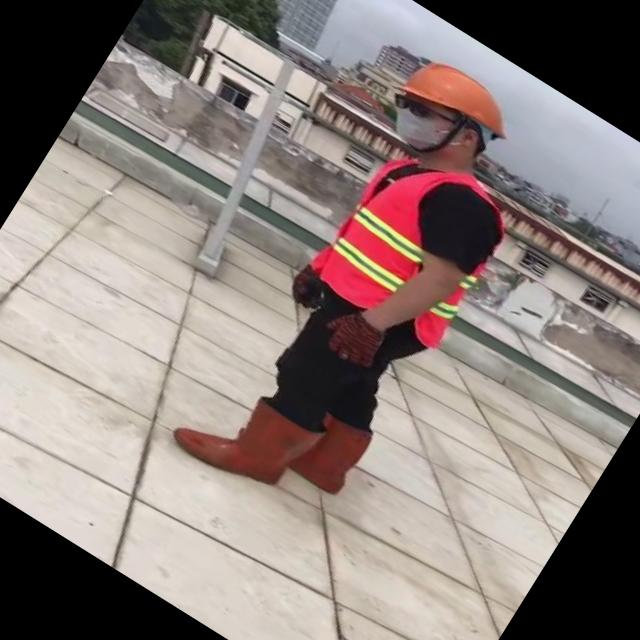hard_hat: (398, 47, 524, 149)
safety_vest: (305, 134, 526, 355)
vehicle: (153, 34, 578, 546)
work_boots: (166, 366, 313, 502), (284, 406, 372, 498)
